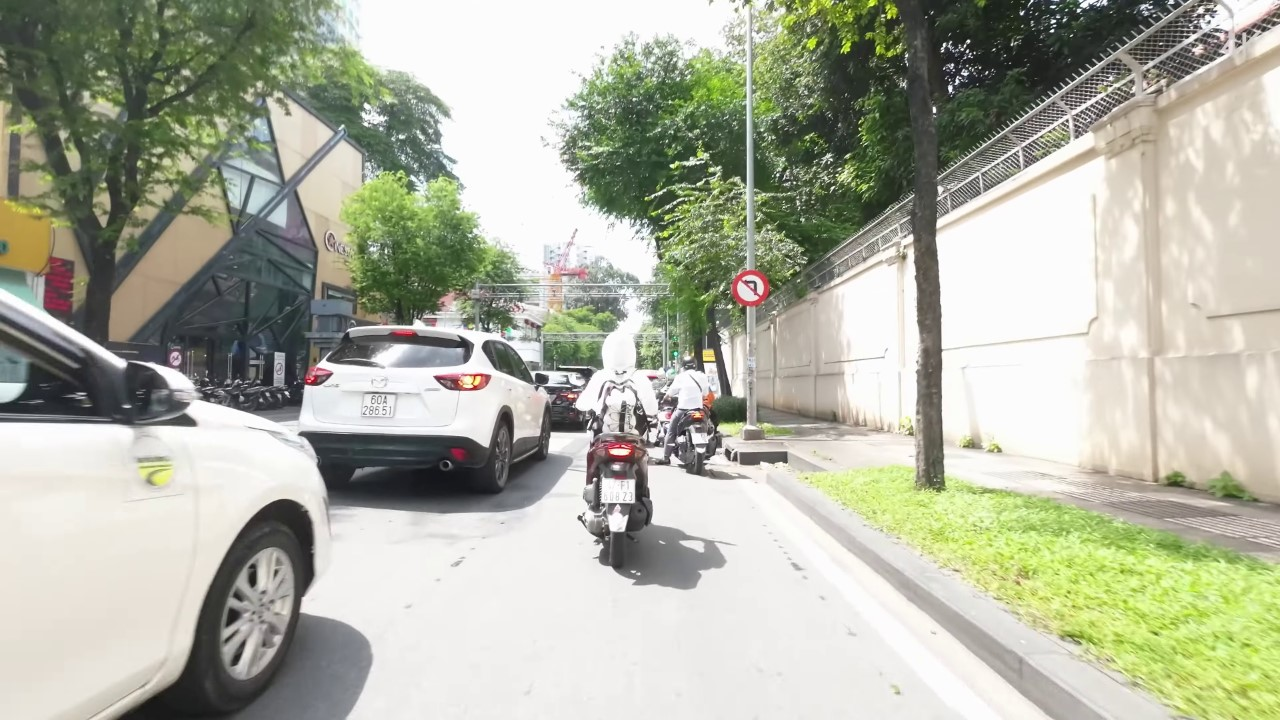cam_re_trai: (730, 270, 771, 307)
